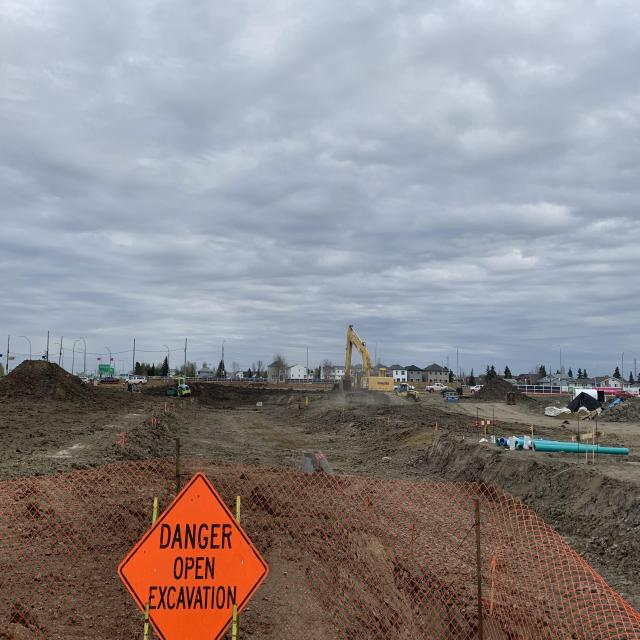Excavator: (334, 324, 396, 404)
Loader: (397, 384, 421, 402)
Roller: (166, 376, 194, 398)
